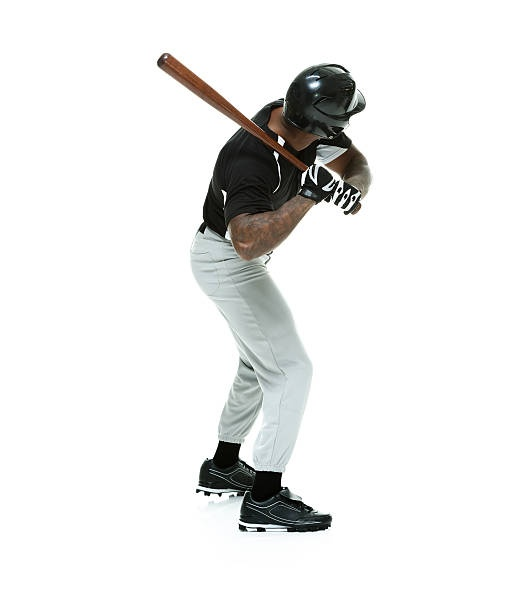bita: (157, 51, 318, 173)
